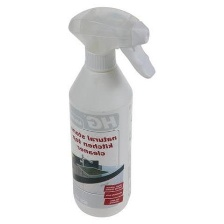cleaning_solution: (66, 4, 158, 219)
